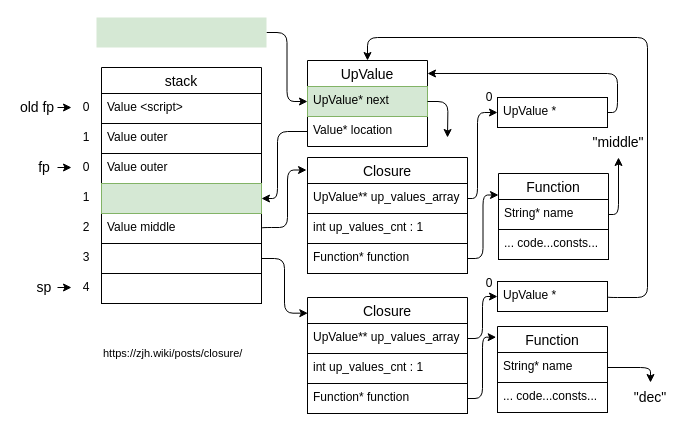
Image size: 697x433. Some labels were removed from this diagram. Each missing label, with the centre of its shape:
"UpValue* openUpValues" belongs at [181,32].
"Value cnt : 1" belongs at [181,198].
"Value dec" belongs at [181,258].
